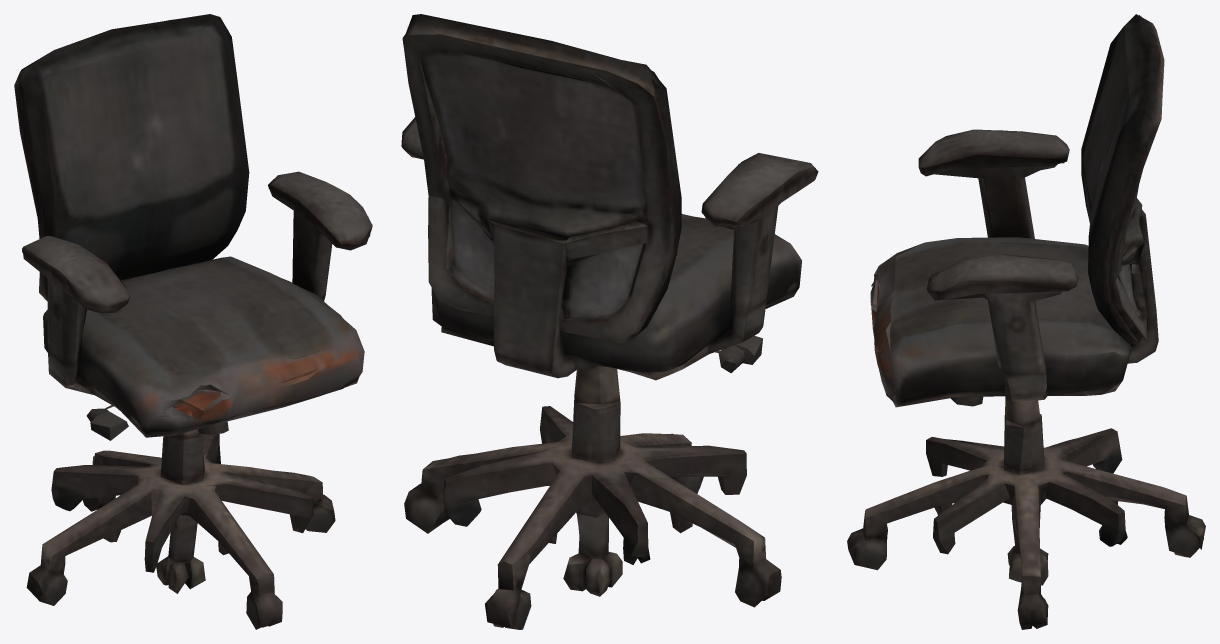
Rendered from p7-office-swivel-chair.glb.
The picture shows the model from 3 angles, left to right: view 1: azimuth 30°, elevation 25°; view 2: azimuth 150°, elevation 25°; view 3: azimuth 270°, elevation 25°; orthographic projection. The views are drawn at different scales.
Visible parts, largest first — view 1: p7-office-swivel-chair; view 2: p7-office-swivel-chair; view 3: p7-office-swivel-chair.
Part boxes in pixels (bbox=[...]): p7-office-swivel-chair: bbox=[14, 14, 372, 629]; p7-office-swivel-chair: bbox=[401, 14, 818, 629]; p7-office-swivel-chair: bbox=[847, 14, 1205, 629].
Bounding box in the file's own units: 0.65 × 1.05 × 0.65.
1 material, 1 textured.
